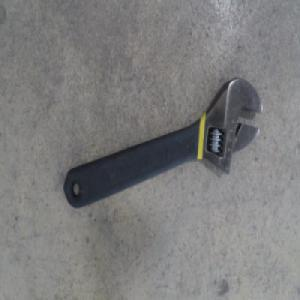AdjustableWrench: (63, 78, 263, 211)
